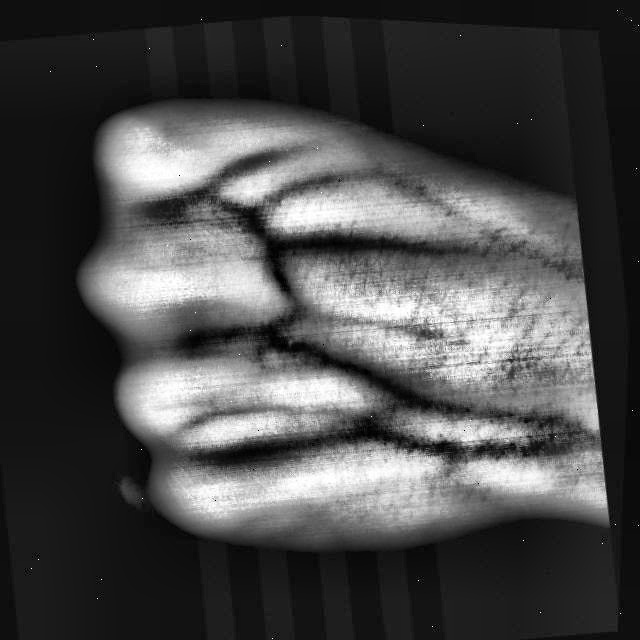Vein: (334, 346, 562, 448)
